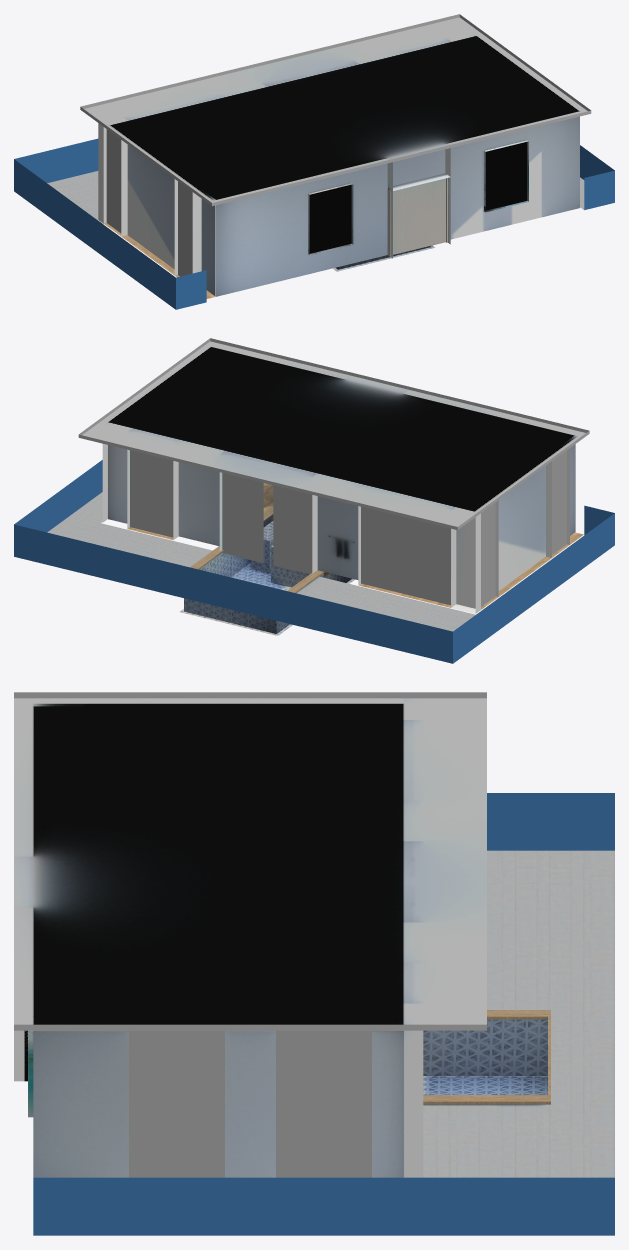
File: bathroom.gltf
3 renders of one model, top to bottom at view 1: azimuth 30°, elevation 25°; view 2: azimuth 150°, elevation 25°; view 3: azimuth 270°, elevation 25°, orthographic. The views are drawn at different scales.
Visible parts, largest first — view 1: Room, Wall, Glass.011, door, OutDoor, Glass.002, Glass.001, Floor, photo_r, Pool, photo_l; view 2: Room, Glass.011, Wall, OutDoor, Glass.004, Pool, Glass.006, Glass.005, Glass.009, Glass.000, Glass.001, Glass.002 (+1 smaller); view 3: Room, Glass.011, OutDoor, Wall, Glass.007, Glass.008, Pool.
Boxes of the visible parts, x1,y1,x2,y2 form: Room: (80,14,591,206); Wall: (98,116,579,296); Glass.011: (14,138,614,309); door: (387,178,447,256); OutDoor: (47,171,584,224); Glass.002: (106,129,121,232); Glass.001: (178,181,192,276); Floor: (104,223,445,298); photo_r: (308,183,353,255); Pool: (332,245,434,271); photo_l: (484,140,528,212); Room: (78,338,589,530); Glass.011: (14,460,614,663); Wall: (102,444,575,613); OutDoor: (47,492,475,631); Glass.004: (222,473,312,573); Pool: (180,506,354,635); Glass.006: (130,450,173,537); Glass.005: (392,514,422,598); Glass.009: (361,506,391,590); Glass.000: (422,522,450,605); Glass.001: (552,450,566,554); Glass.002: (481,503,495,606); Room: (14,692,486,1030); Glass.011: (33,793,614,1235); OutDoor: (423,850,614,1177); Wall: (14,1030,423,1177); Glass.007: (276,1030,371,1177); Glass.008: (129,1030,224,1177); Pool: (423,1010,550,1104).
Bounding box in the file's own units: 14.24 × 4.31 × 9.4.
17 materials, 17 textured.
